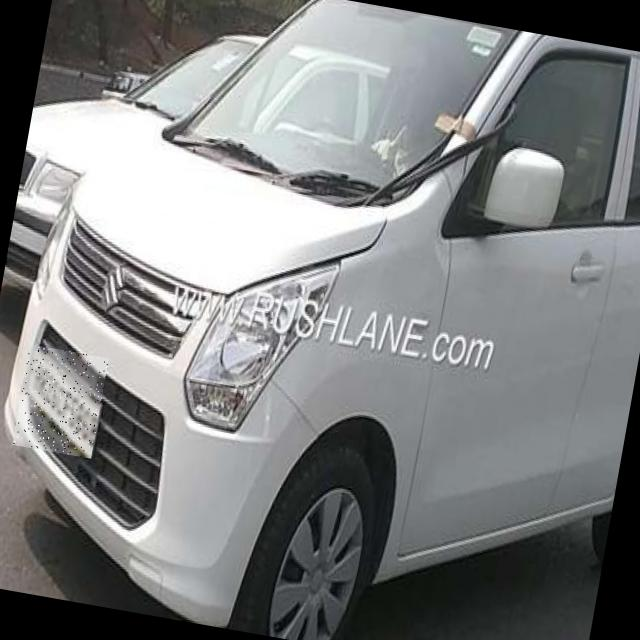Plate: (13, 345, 109, 459)
